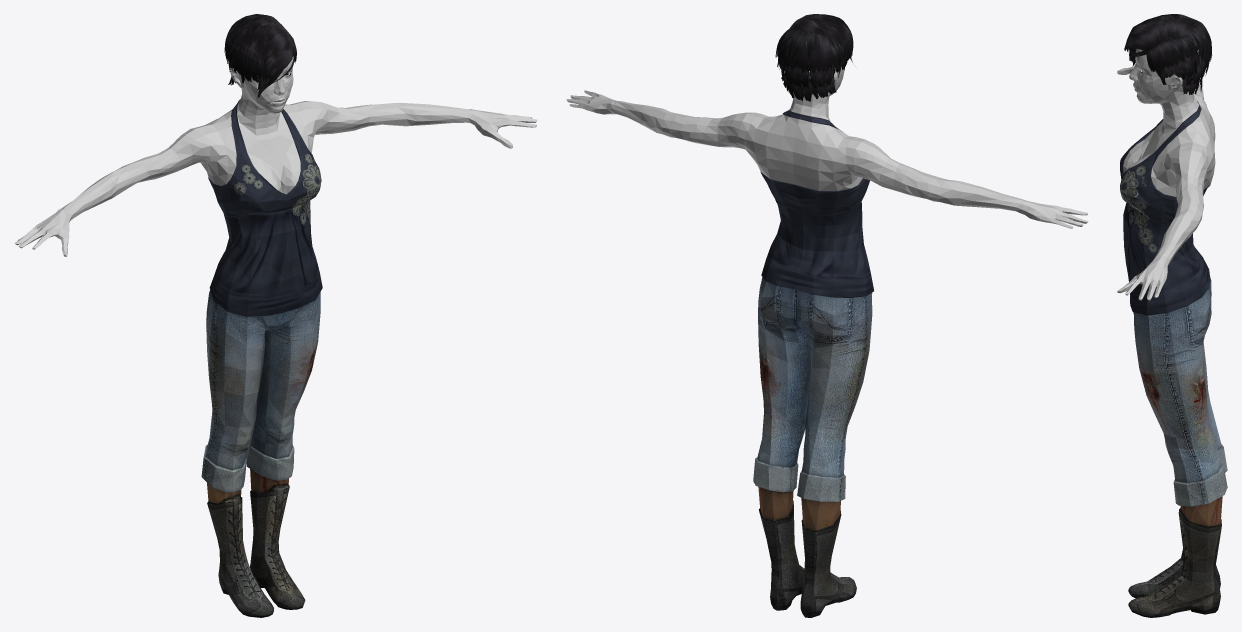
The model's file is Alice Murray.obj.
3 views of the same model, side by side, from view 1: azimuth 30°, elevation 25°; view 2: azimuth 150°, elevation 25°; view 3: azimuth 270°, elevation 25° (orthographic).
Parts seen in each view (by area): view 1: Alice_Murray_Alice_Murray_Alice_Murray_legs, Alice_Murray_Alice_Murray_Alice_Murray_skin_Alice_Murray_skin_bu, Alice_Murray_Alice_Murray_Alice_Murray_dress, Alice_Murray_Alice_Murray_Alice_Murray_hair; view 2: Alice_Murray_Alice_Murray_Alice_Murray_legs, Alice_Murray_Alice_Murray_Alice_Murray_skin_Alice_Murray_skin_bu, Alice_Murray_Alice_Murray_Alice_Murray_dress, Alice_Murray_Alice_Murray_Alice_Murray_hair; view 3: Alice_Murray_Alice_Murray_Alice_Murray_legs, Alice_Murray_Alice_Murray_Alice_Murray_skin_Alice_Murray_skin_bu, Alice_Murray_Alice_Murray_Alice_Murray_dress, Alice_Murray_Alice_Murray_Alice_Murray_hair.
Part boxes in pixels (left/top/right/bottom): Alice_Murray_Alice_Murray_Alice_Murray_legs: left=201, top=290, right=320, bottom=617; Alice_Murray_Alice_Murray_Alice_Murray_skin_Alice_Murray_skin_bu: left=14, top=59, right=537, bottom=256; Alice_Murray_Alice_Murray_Alice_Murray_dress: left=208, top=99, right=322, bottom=316; Alice_Murray_Alice_Murray_Alice_Murray_hair: left=224, top=14, right=296, bottom=97; Alice_Murray_Alice_Murray_Alice_Murray_legs: left=753, top=277, right=872, bottom=617; Alice_Murray_Alice_Murray_Alice_Murray_skin_Alice_Murray_skin_bu: left=566, top=66, right=1088, bottom=228; Alice_Murray_Alice_Murray_Alice_Murray_dress: left=760, top=110, right=873, bottom=297; Alice_Murray_Alice_Murray_Alice_Murray_hair: left=775, top=14, right=853, bottom=101; Alice_Murray_Alice_Murray_Alice_Murray_legs: left=1128, top=276, right=1227, bottom=617; Alice_Murray_Alice_Murray_Alice_Murray_skin_Alice_Murray_skin_bu: left=1117, top=49, right=1215, bottom=300; Alice_Murray_Alice_Murray_Alice_Murray_dress: left=1120, top=101, right=1210, bottom=315; Alice_Murray_Alice_Murray_Alice_Murray_hair: left=1124, top=14, right=1212, bottom=94.
Size of the model in its own units: 3.31 by 3.54 by 0.6042.
